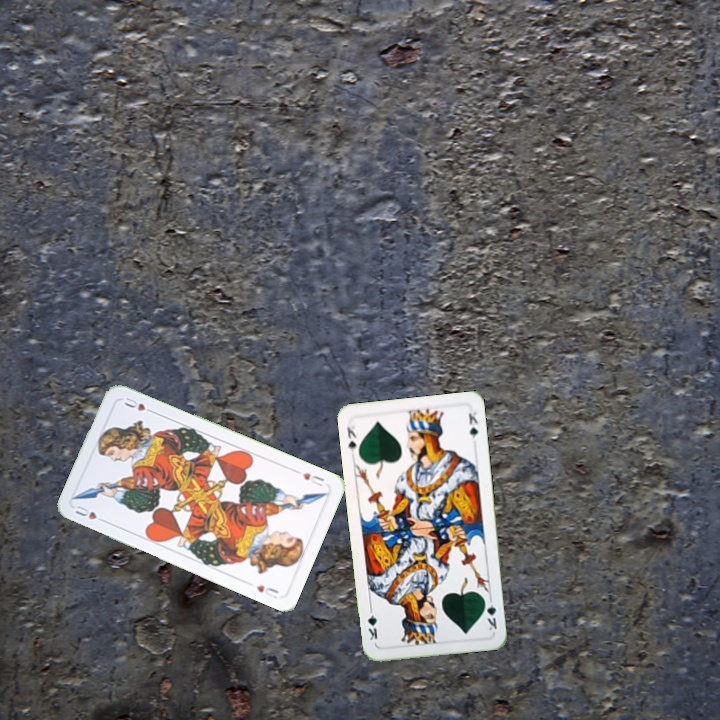GK: (480, 593, 499, 633), (343, 419, 359, 455)
HU: (71, 501, 109, 525), (298, 468, 327, 490)
